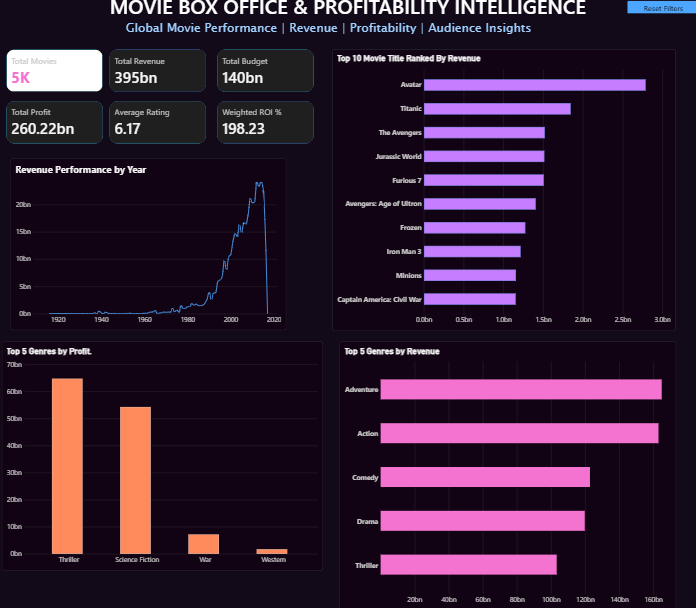

This screenshot's page, from the dashboard's own definition file:
{"tool":"powerbi","page":{"name":"Executive Overview","canvas":[2500,3000],"ordinal":0},"visuals":[{"type":"textbox","box":[395.8,0,1816.7,108.3],"z":0},{"type":"textbox","box":[454.2,79.2,1587.5,95.8],"z":1000},{"type":"cardVisual","fields":{"Data":["public fact_movie_performance.Total Movies"]},"box":[24.2,205.6,344.7,151.2],"z":2000},{"type":"cardVisual","fields":{"Data":["public fact_movie_performance.Total Revenue"]},"box":[396.1,205.6,344,151.2],"z":3000},{"type":"cardVisual","fields":{"Data":["public fact_movie_performance.Total Budget"]},"box":[777.1,205.6,344,151.2],"z":4000},{"type":"cardVisual","fields":{"Data":["public fact_movie_performance.Total Profit"]},"box":[24.2,390.1,344.7,151.2],"z":5000},{"type":"cardVisual","fields":{"Data":["public bridge_movie_company_model.Weighted ROI %"]},"box":[777.1,390.1,344,151.2],"z":6000},{"type":"cardVisual","fields":{"Data":["public fact_movie_performance.Average Rating"]},"box":[396.1,390.1,344,151.2],"z":7000},{"type":"lineChart","title":"Revenue Performance by Year","fields":{"Category":["public dim_date.release_year"],"Y":["public fact_movie_performance.Total Revenue"]},"box":[43.9,595.5,982.4,611.8],"z":8000},{"type":"clusteredBarChart","title":"Top 5 Genres by Revenue","fields":{"Category":["public dim_genre.genre_name"],"Y":["public dim_movie.Genre Revenue"]},"box":[1216.7,1245.8,1200,958.3],"z":9000},{"type":"clusteredBarChart","title":"Top 10 Movie Title Ranked By Revenue","fields":{"Category":["public dim_movie.title"],"Y":["Sum(public fact_movie_performance.revenue)"]},"box":[1191.7,204.2,1225,1004.2],"z":10000},{"type":"clusteredColumnChart","title":"Top 5 Genres by Profit.","fields":{"Category":["public dim_genre.genre_name"],"Y":["public bridge_movie_company_model.\\Genre Profit"]},"box":[9.7,1245.2,1145.2,816.1],"z":11000},{"type":"donutChart","title":"Top 5 Production Companies by Revenue","fields":{"Category":["public dim_production_company.company_name"],"Y":["public bridge_movie_company_model.Company Revenue"]},"box":[612.5,2250,1804.2,695.8],"z":12000},{"type":"slicer","fields":{"Values":["public dim_date.release_year"]},"box":[45.5,2251.5,450,637.5],"z":12001},{"type":"actionButton","box":[2241.9,32.3,258.1,45.2],"z":12002}]}

Visuals, with their boxes on the page's 2500x3000 design canvas (x1, y1, x2, y2). These are canvas units, not pixel positions in the 696x608 screenshot, which may show the page scaled, cropped or inside an application window:
textbox: 396, 0, 2212, 108
textbox: 454, 79, 2042, 175
cardVisual - public fact_movie_performance.Total Movies: 24, 206, 369, 357
cardVisual - public fact_movie_performance.Total Revenue: 396, 206, 740, 357
cardVisual - public fact_movie_performance.Total Budget: 777, 206, 1121, 357
cardVisual - public fact_movie_performance.Total Profit: 24, 390, 369, 541
cardVisual - public bridge_movie_company_model.Weighted ROI %: 777, 390, 1121, 541
cardVisual - public fact_movie_performance.Average Rating: 396, 390, 740, 541
"Revenue Performance by Year" lineChart: 44, 596, 1026, 1207
"Top 5 Genres by Revenue" clusteredBarChart: 1217, 1246, 2417, 2204
"Top 10 Movie Title Ranked By Revenue" clusteredBarChart: 1192, 204, 2417, 1208
"Top 5 Genres by Profit." clusteredColumnChart: 10, 1245, 1155, 2061
"Top 5 Production Companies by Revenue" donutChart: 612, 2250, 2417, 2946
slicer - public dim_date.release_year: 46, 2252, 496, 2889
actionButton: 2242, 32, 2500, 78
